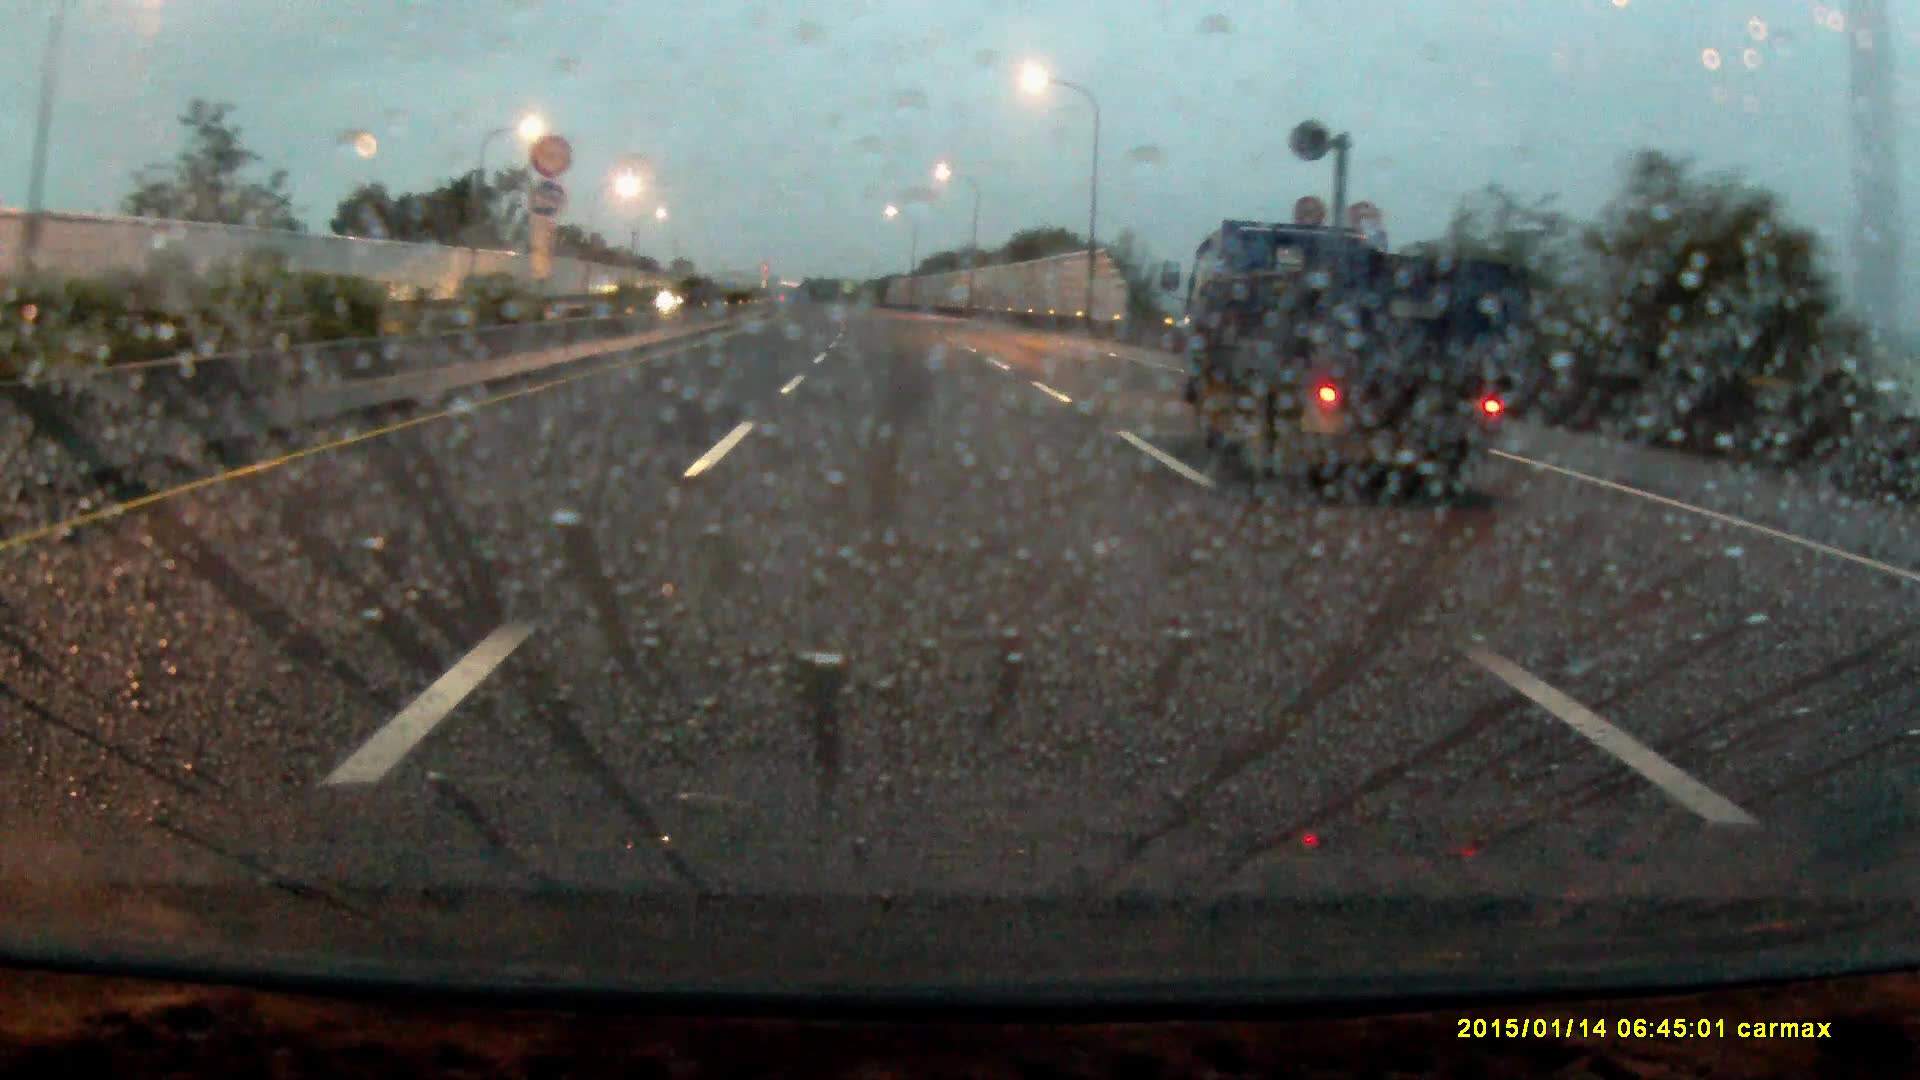vehicle: (1203, 204, 1538, 521)
